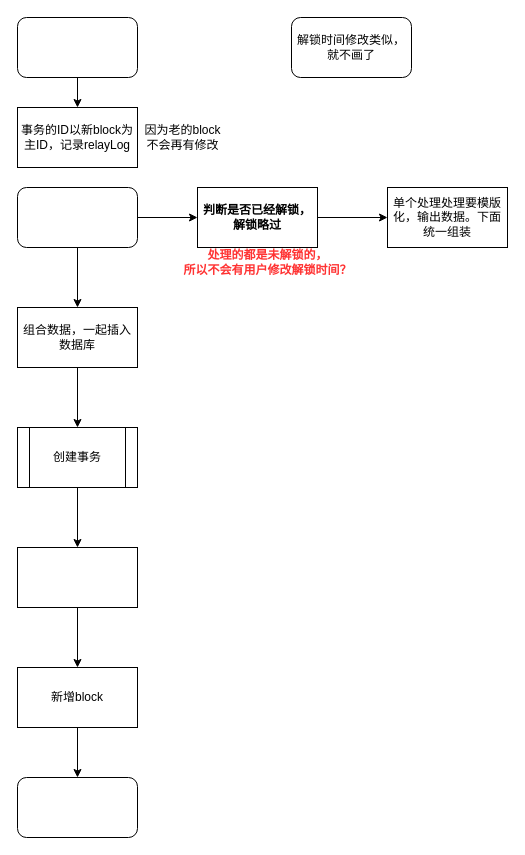
The diagram is 525 pixels wide and 855 high, and some of its shapes have lost their labels. The box of each missing label's shape, as (x1, y1, x2, y2) in pixels:
50个user为单位 并发分别处理逻辑&准备数据: (16, 186, 138, 248)
事务commit: (16, 776, 138, 838)
标记学生老的block为删除状态: (16, 546, 138, 608)
章节异动: (16, 16, 138, 78)
